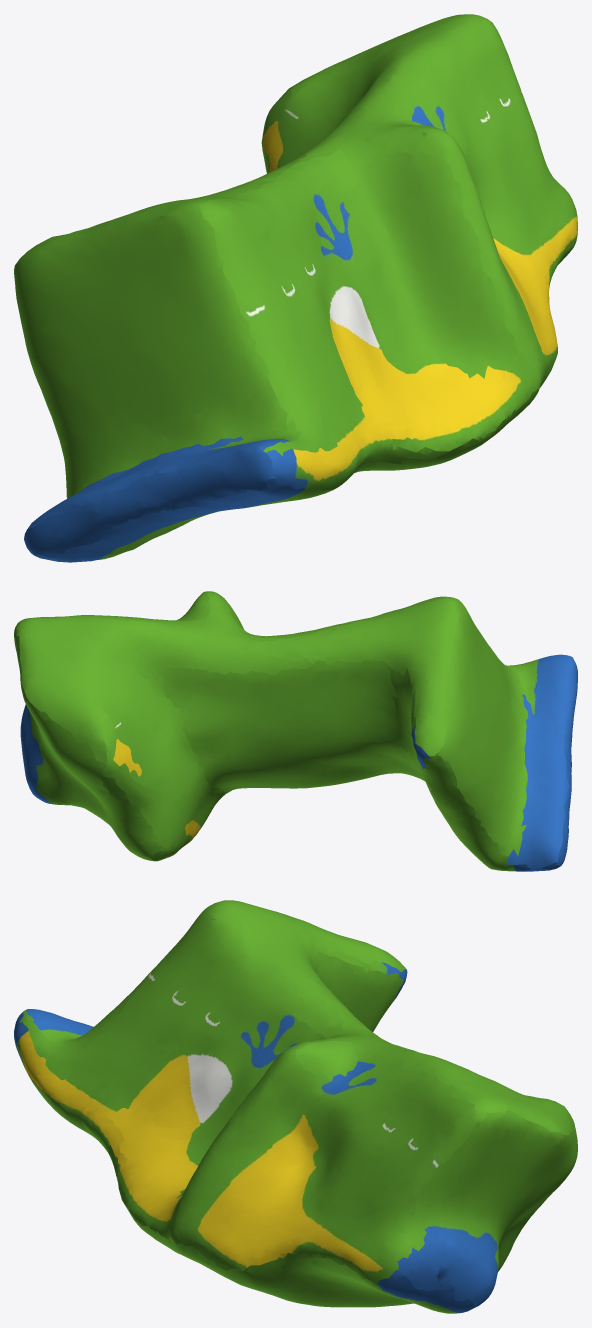
Rendered from parcour-l-connect.glb.
3 views of the same model, one above another, from view 1: azimuth 30°, elevation 25°; view 2: azimuth 150°, elevation 25°; view 3: azimuth 270°, elevation 25° (orthographic). The views are drawn at different scales.
Parts seen in each view (by area): view 1: geometry_0; view 2: geometry_0; view 3: geometry_0.
Part boxes in pixels (x1,y1,x2,y2): geometry_0: [14, 14, 577, 562]; geometry_0: [14, 591, 577, 871]; geometry_0: [14, 900, 577, 1313].
Bounding box in the file's own units: 1.04 × 0.5115 × 0.9214.
1 material, 1 textured.
